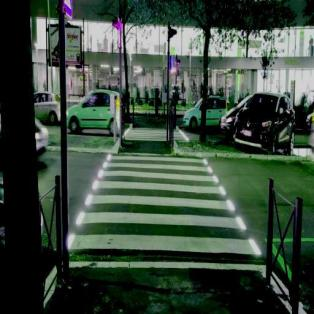Paso de Cebra: (75, 193, 250, 231), (90, 156, 226, 184)
